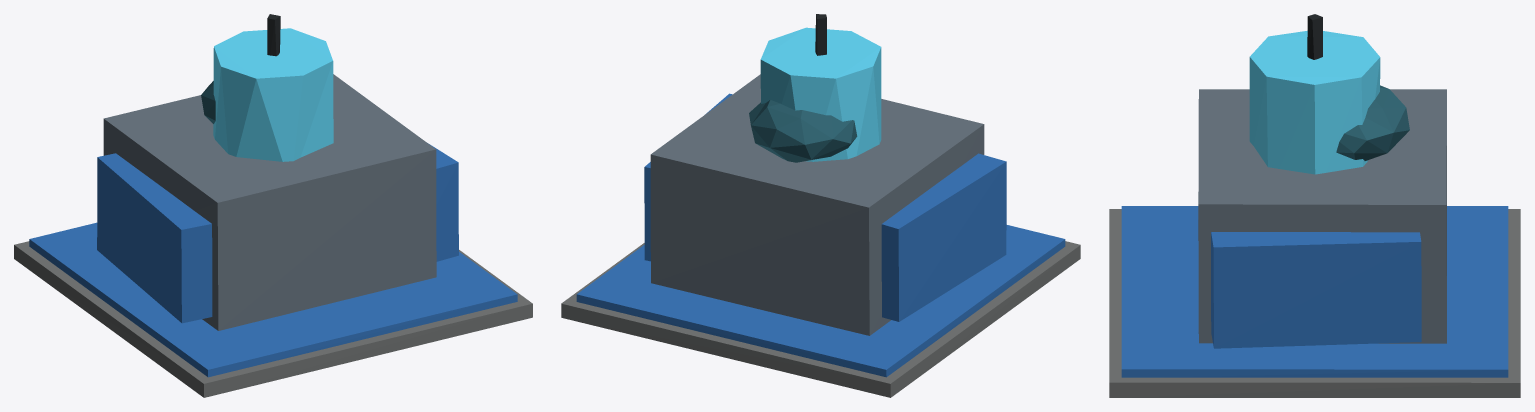
Rendered from SM_Alliance_AL_ConYard_LOD3.fbx.
3 renders of one model, left to right at view 1: azimuth 30°, elevation 25°; view 2: azimuth 150°, elevation 25°; view 3: azimuth 270°, elevation 25°, orthographic. The views are drawn at different scales.
Visible parts, largest first — view 1: LOD03_SM_Alliance_AL_ConYard; view 2: LOD03_SM_Alliance_AL_ConYard; view 3: LOD03_SM_Alliance_AL_ConYard.
Part boxes in pixels (left/top/right/bottom): LOD03_SM_Alliance_AL_ConYard: left=14, top=14, right=532, bottom=397; LOD03_SM_Alliance_AL_ConYard: left=561, top=14, right=1080, bottom=397; LOD03_SM_Alliance_AL_ConYard: left=1109, top=14, right=1520, bottom=397.
Bounding box in the file's own units: 797 × 797 × 628.
